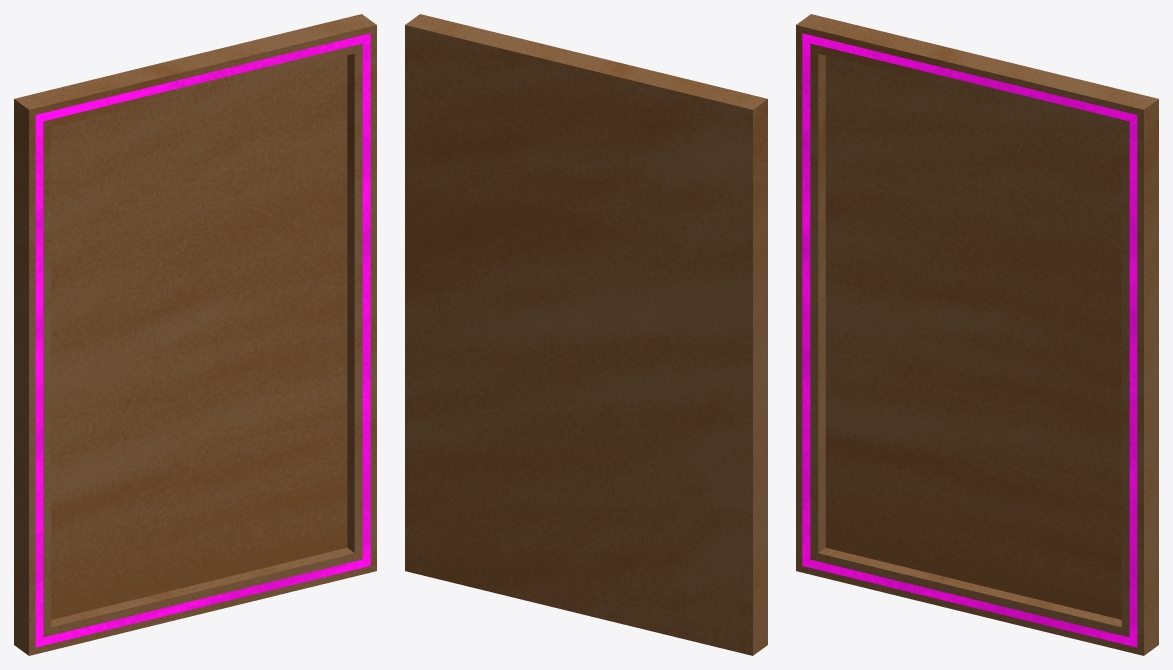
Rendered from CartaRoxa.fbx.
3 renders of one model, left to right at view 1: azimuth 30°, elevation 25°; view 2: azimuth 150°, elevation 25°; view 3: azimuth 330°, elevation 25°, orthographic.
Parts seen in each view (by area): view 1: CartaRoxa; view 2: CartaRoxa; view 3: CartaRoxa.
Boxes of the visible parts, left/top/right/bottom form: CartaRoxa: left=14, top=14, right=376, bottom=655; CartaRoxa: left=405, top=14, right=767, bottom=655; CartaRoxa: left=796, top=14, right=1158, bottom=655.
Size of the model in its own units: 200 by 300 by 15.
